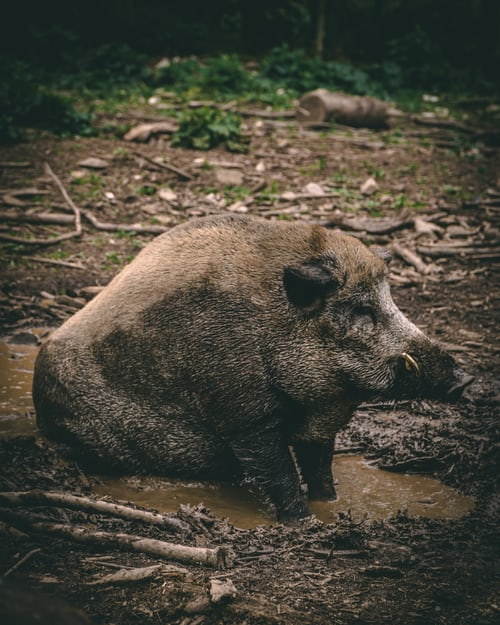boar: (26, 207, 481, 521)
